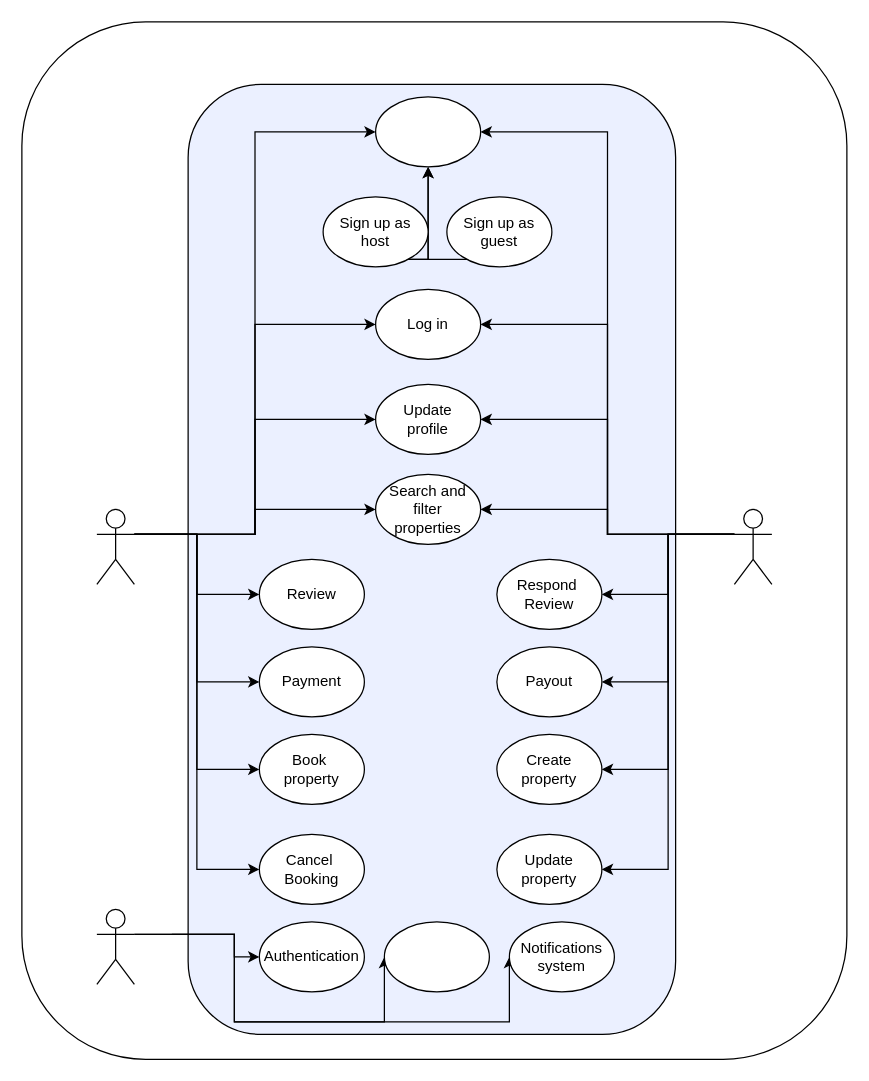
This 869x1081 diagram has some shape labels left out. Each missing label, with the centre of its shape:
"Admin Dashboard" belongs at point 436,956.
"Guest" belongs at point 115,546.
"Host" belongs at point 752,546.
"Sign up" belongs at point 427,131.
"System" belongs at point 115,946.
